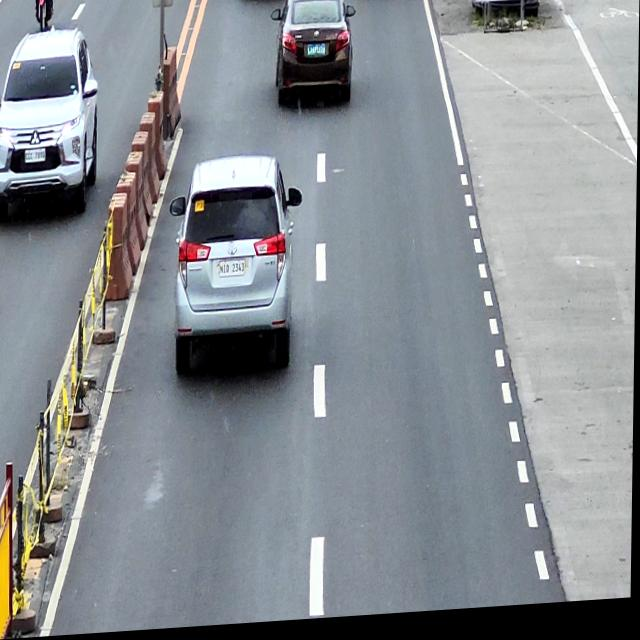Car: (168, 156, 304, 381), (0, 28, 100, 219), (270, 0, 356, 113)
License-Plate: (220, 262, 246, 281), (26, 150, 46, 164), (308, 48, 326, 61)
